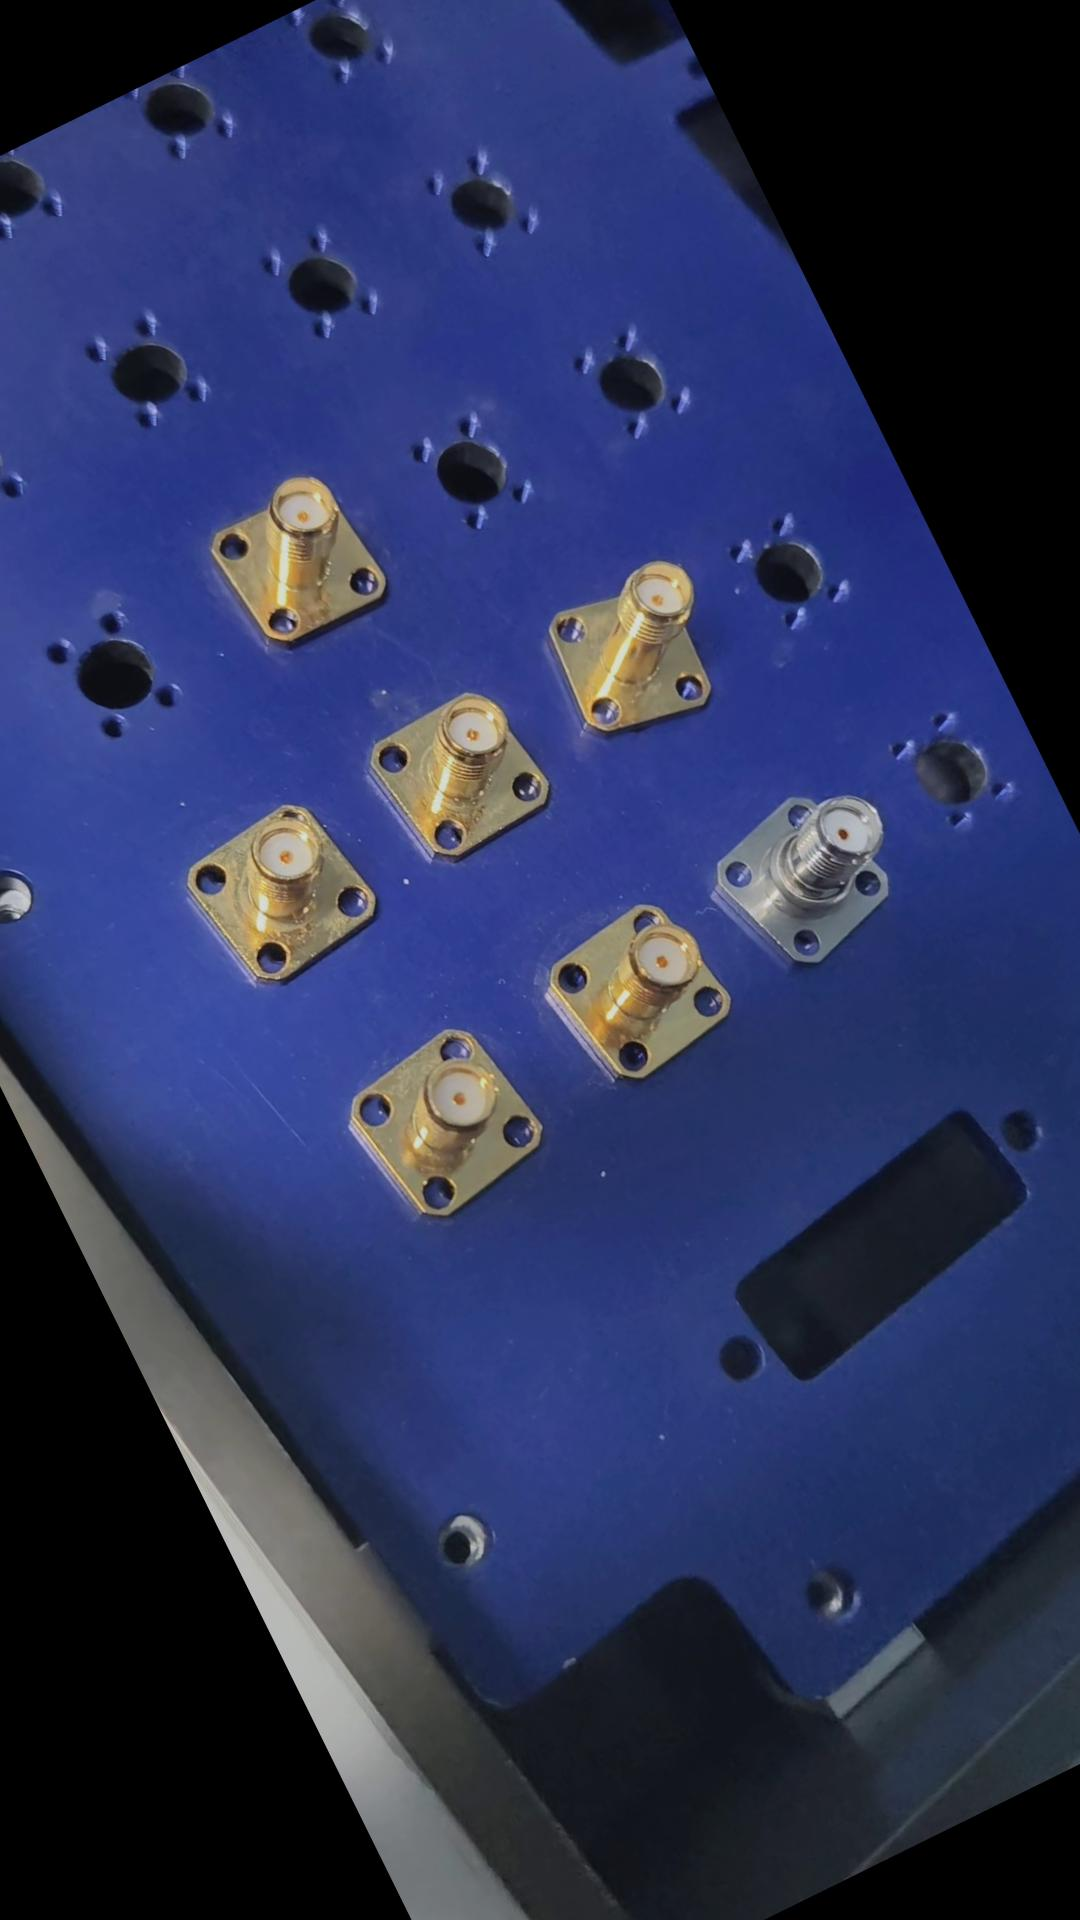SMA: (543, 985, 767, 1216), (342, 891, 556, 1116), (676, 752, 902, 963), (605, 423, 820, 630), (160, 806, 367, 1021), (489, 663, 690, 862), (297, 571, 496, 767)
